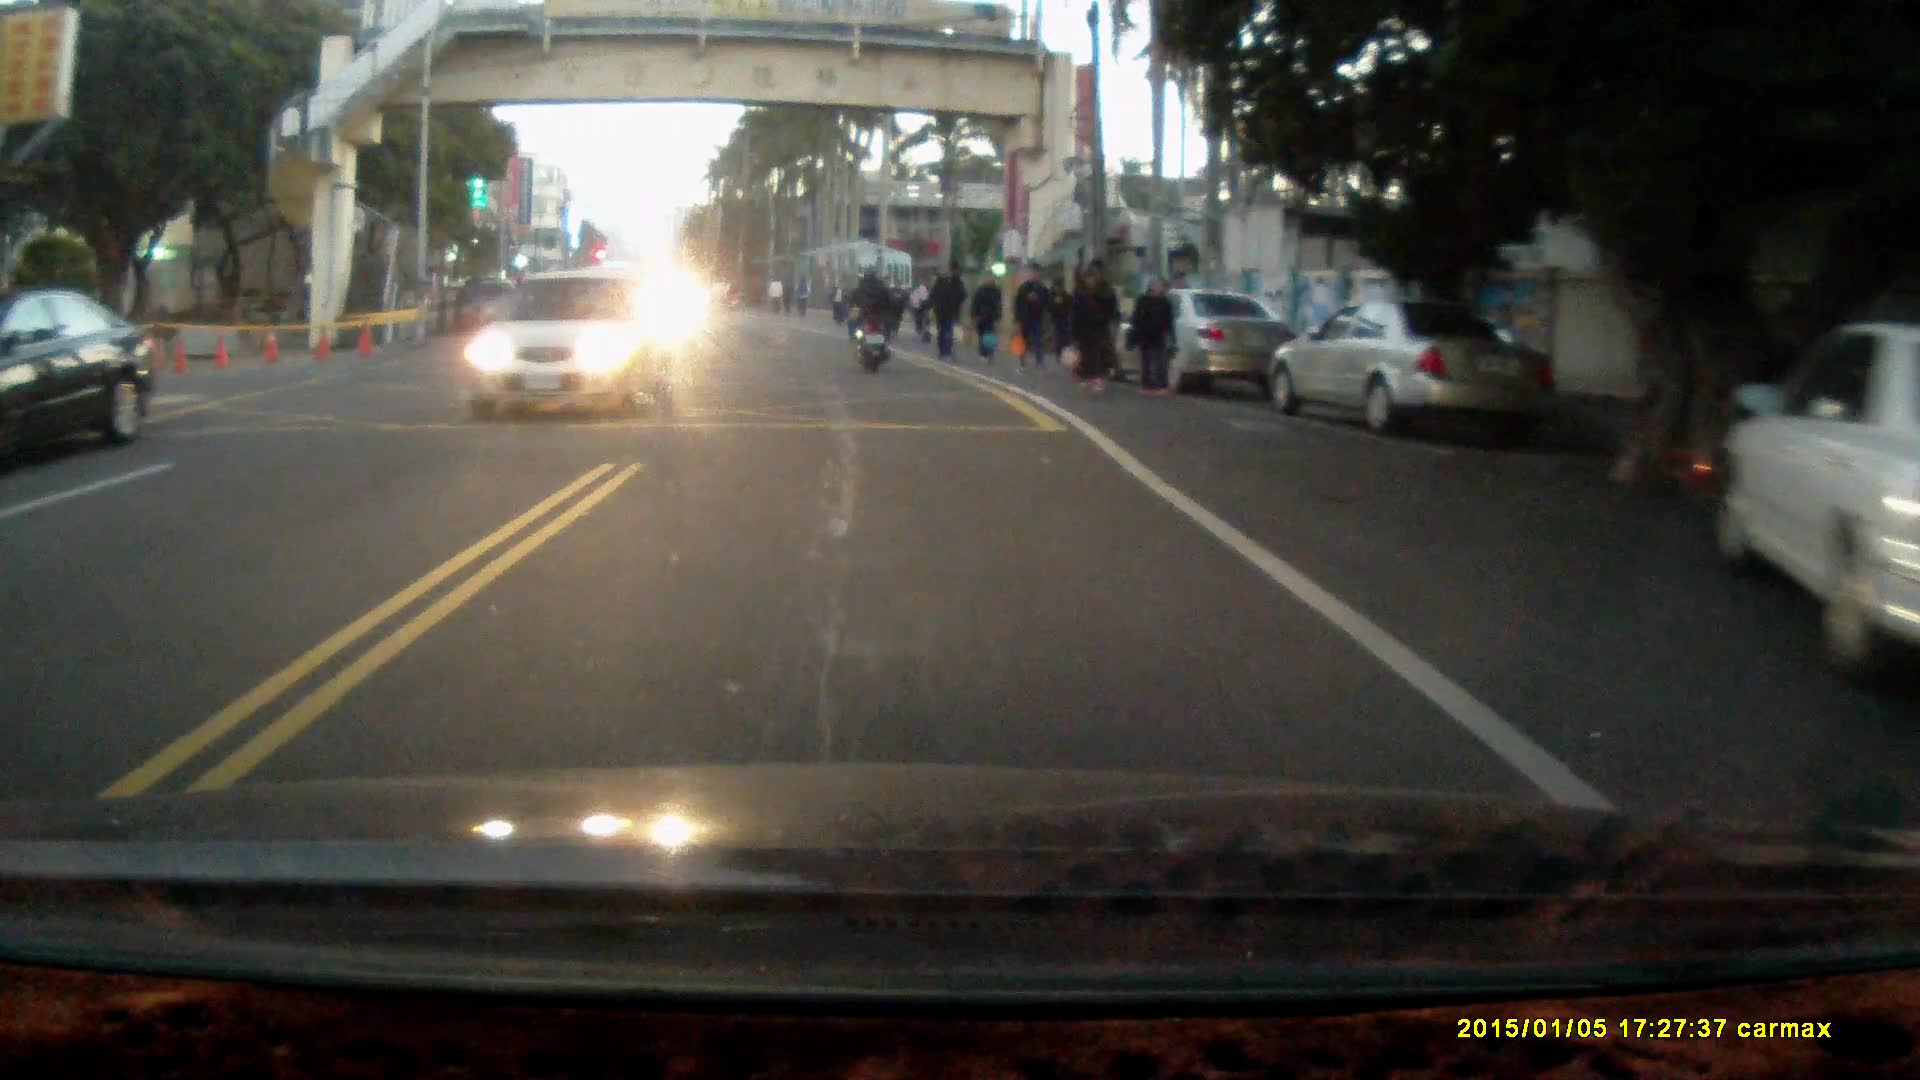pedestrian: (1130, 275, 1179, 404), (1069, 269, 1112, 396), (1011, 263, 1051, 376), (926, 263, 967, 365), (966, 272, 1004, 369)
rider: (844, 265, 899, 376)
vehicle: (1713, 321, 1920, 690), (1267, 298, 1564, 440), (455, 271, 679, 427), (1, 296, 169, 465), (1097, 293, 1303, 397)
